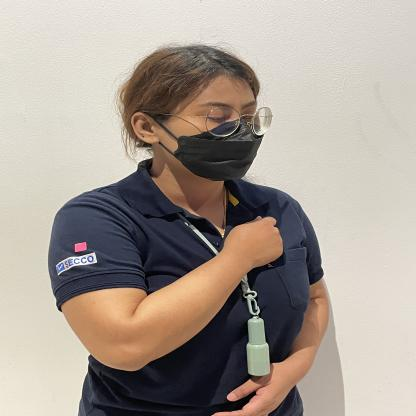Sadness: (164, 205, 340, 282)
